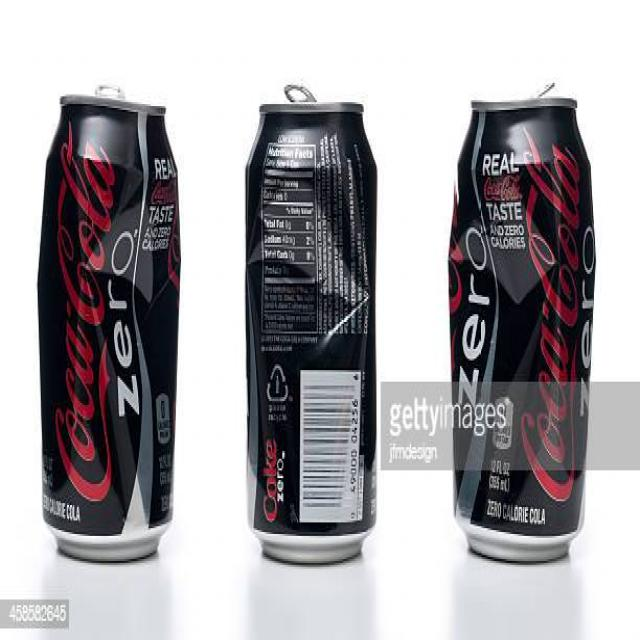non-organic waste: (430, 48, 611, 578), (222, 44, 397, 580), (32, 47, 186, 580)
